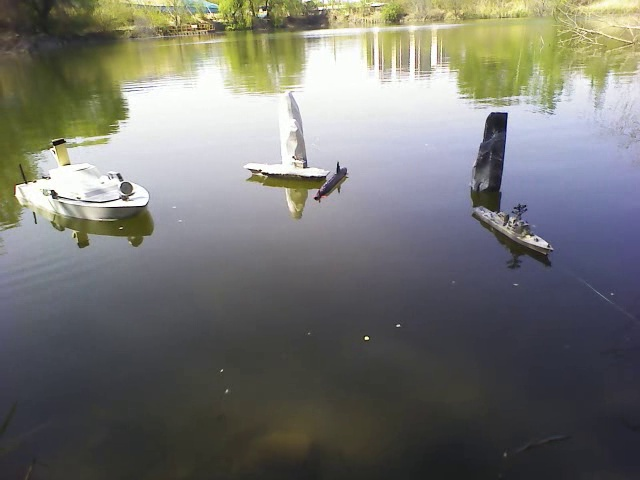aircraft_carrier: (244, 157, 329, 181)
boat: (15, 156, 159, 217)
iceberg: (278, 90, 313, 163)
rock: (469, 109, 512, 191)
submarine: (315, 165, 349, 203)
warship: (476, 200, 560, 258)
